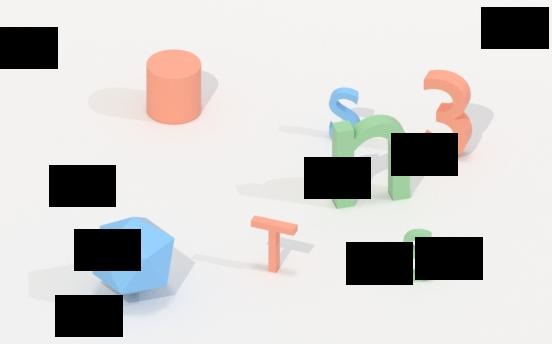3: (418, 69, 478, 161)
dagiac: (89, 216, 180, 295)
n: (323, 112, 420, 210)
s: (399, 227, 440, 284), (328, 83, 361, 133)
t-hoa: (244, 212, 307, 275)
tru: (143, 48, 205, 129)
